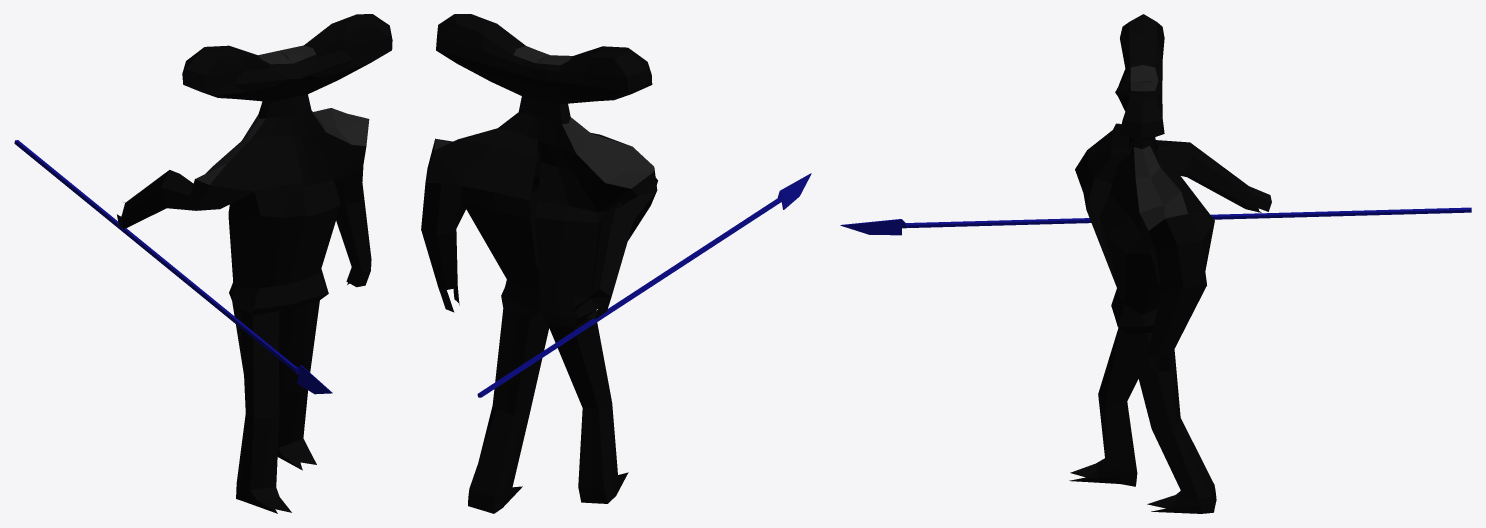
File: Spearman1a.obj
The picture shows the model from 3 angles, left to right: view 1: azimuth 30°, elevation 25°; view 2: azimuth 150°, elevation 25°; view 3: azimuth 270°, elevation 25°; orthographic projection. The views are drawn at different scales.
Visible parts, largest first — view 1: Cube, Cube.001; view 2: Cube, Cube.001; view 3: Cube, Cube.001.
Boxes of the visible parts, x1=… form: Cube: x1=117, y1=14, x2=392, y2=513; Cube.001: x1=14, y1=140, x2=332, y2=394; Cube: x1=421, y1=14, x2=657, y2=513; Cube.001: x1=477, y1=173, x2=811, y2=397; Cube: x1=1069, y1=14, x2=1271, y2=513; Cube.001: x1=840, y1=207, x2=1471, y2=235.
Size of the model in its own units: 0.7682 by 1.51 by 1.93.
